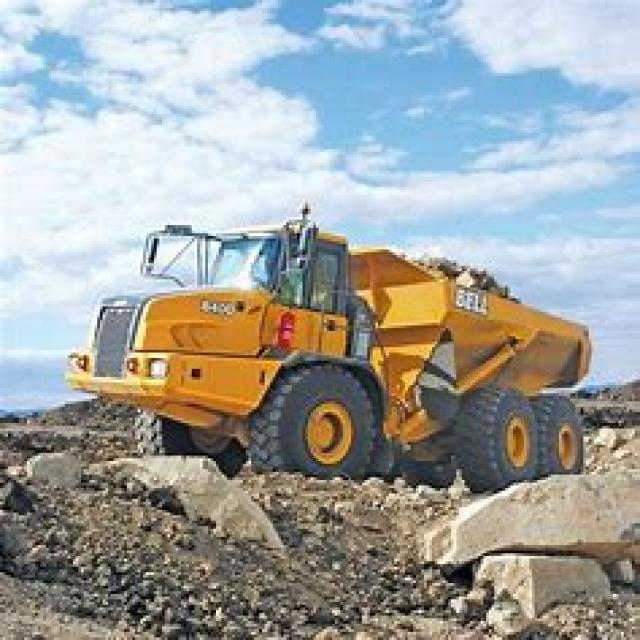dump_truck: (29, 209, 596, 491)
